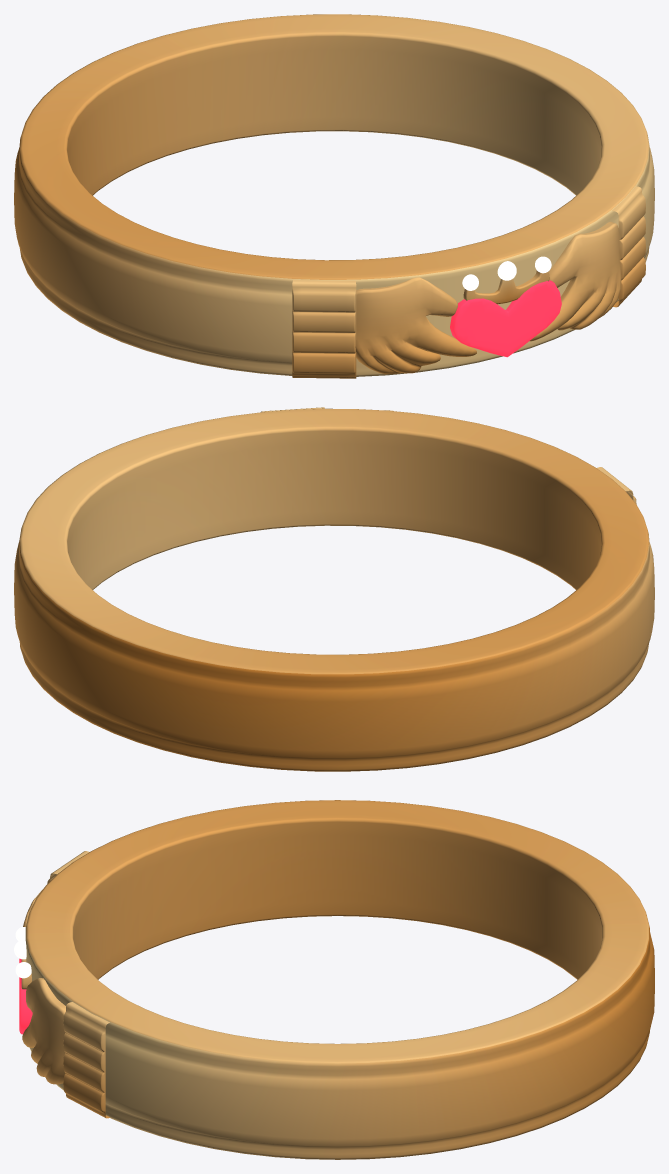
File: ring.fbx
3 views of the same model, one above another, from view 1: azimuth 30°, elevation 25°; view 2: azimuth 150°, elevation 25°; view 3: azimuth 270°, elevation 25° (orthographic).
Parts seen in each view (by area): view 1: polySurface10; view 2: polySurface10; view 3: polySurface10.
Boxes of the visible parts, <box> form: polySurface10: <box>14,14,654,378</box>; polySurface10: <box>14,407,654,771</box>; polySurface10: <box>14,800,654,1159</box>.
Size of the model in its own units: 9.91 by 1.69 by 10.
